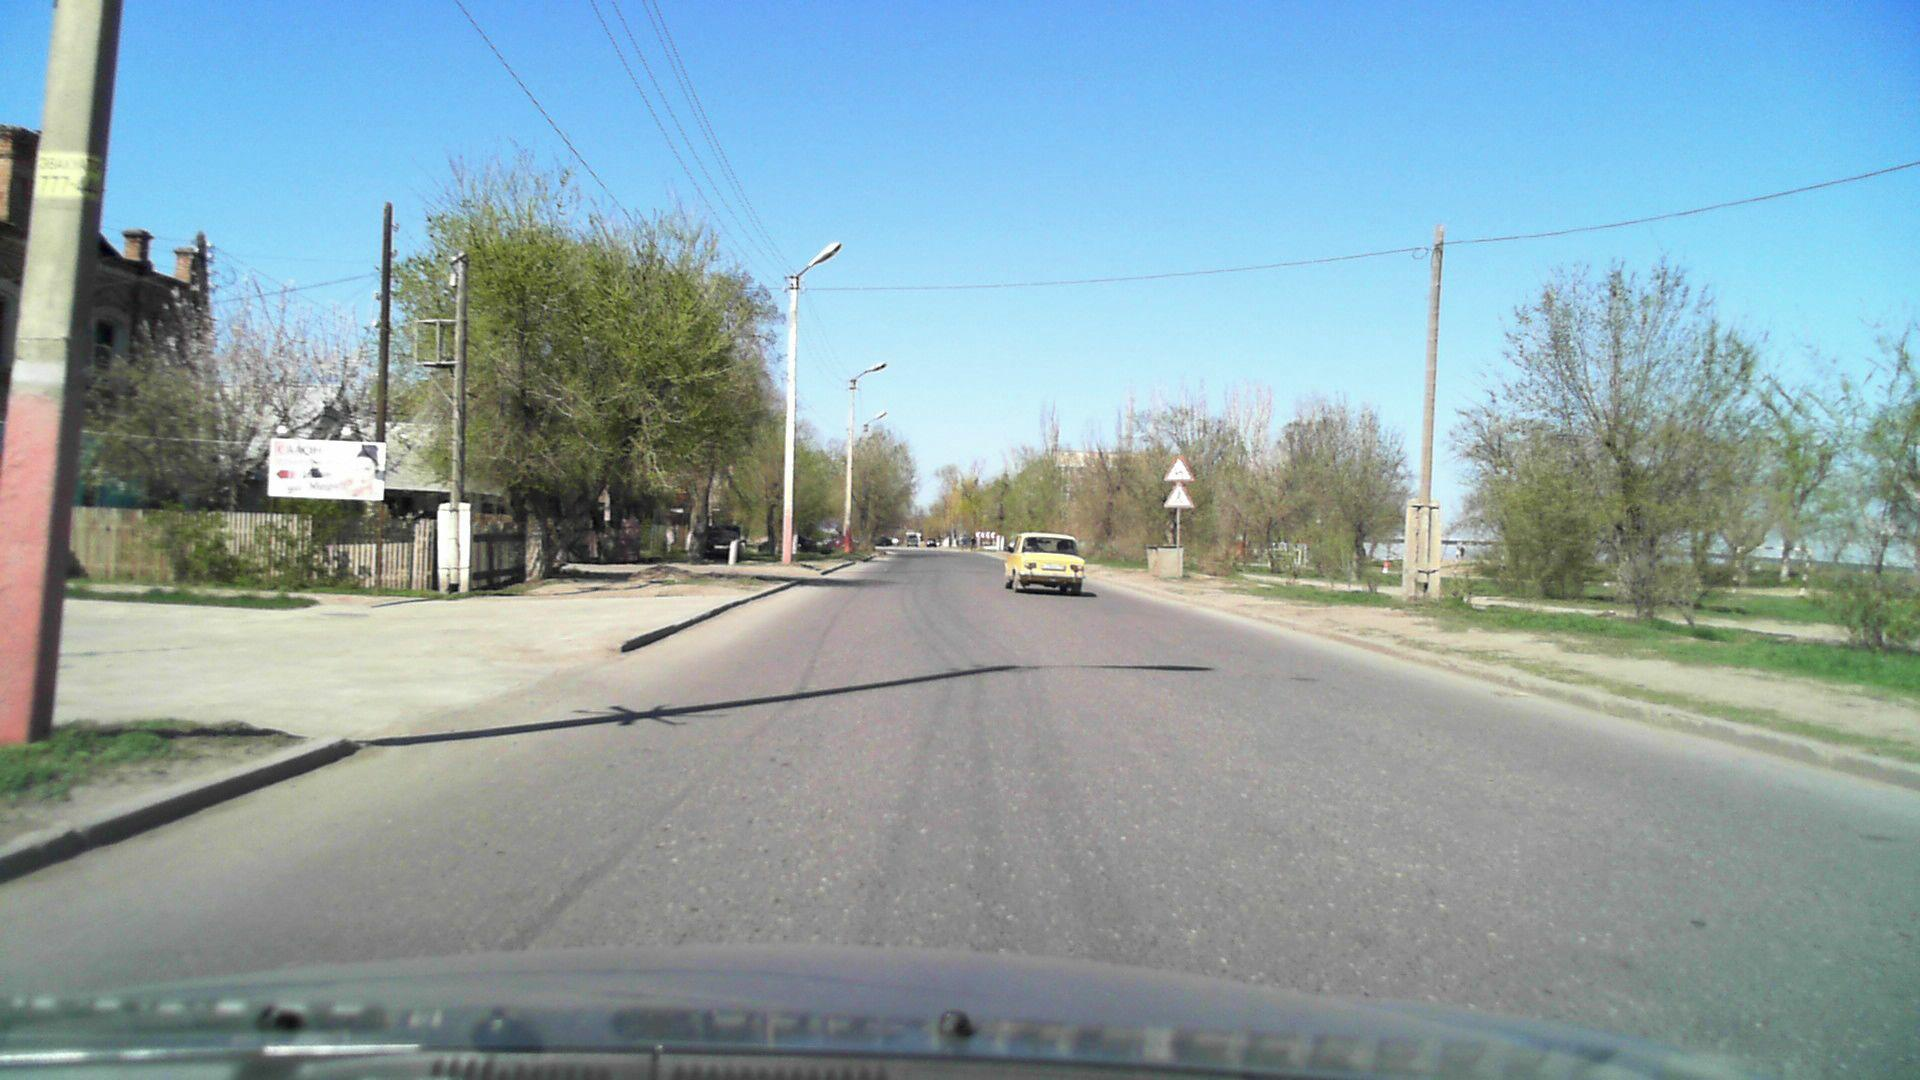1_12_2: (1162, 456, 1195, 481)
1_22: (1163, 481, 1197, 510)
